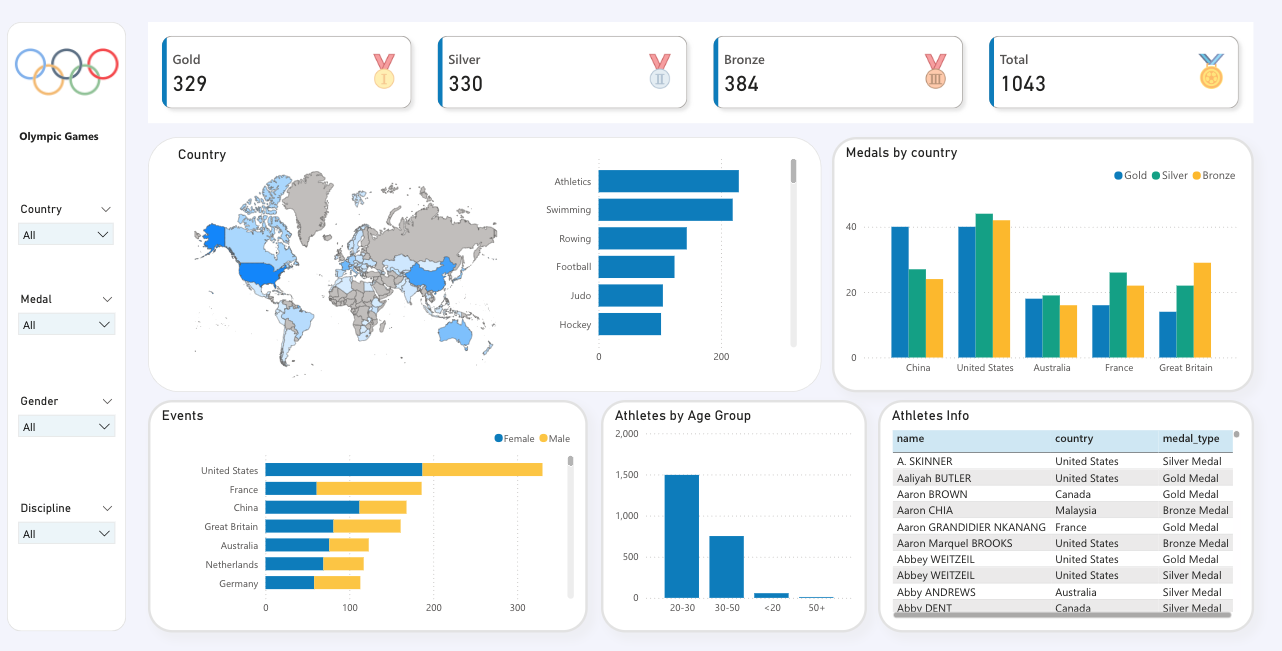

The page's visual inventory and layout, read from the dashboard file:
{"tool":"powerbi","page":{"name":"第 1 页","canvas":[1580,800],"ordinal":0},"visuals":[{"type":"shape","box":[187.2,170.4,825.6,312.6],"z":0},{"type":"cardVisual","fields":{"Data":["parisOlympicT.Total_Gold_Medals","parisOlympicT.SilverT","parisOlympicT.Bronze","parisOlympicT.Totalt"]},"box":[187.2,30,1355.4,123.6],"z":1000},{"type":"shapeMap","title":"Country","fields":{"Value":["parisOlympicT.Total"],"Category":["parisOlympicT.country"]},"box":[219,183.5,421.2,286.4],"z":2000},{"type":"barChart","fields":{"Category":["parisOlympicT.discipline"],"Y":["parisOlympicT.discipline"]},"box":[640.2,183.5,348.2,273.3],"z":3000},{"type":"clusteredColumnChart","title":"Medals by country","fields":{"Category":["parisOlympicT.country"],"Y":["parisOlympicT.Gold","parisOlympicT.Silver","parisOlympicT.Bronze"]},"box":[1025.9,170.4,516.7,312.6],"z":4000},{"type":"barChart","title":"Events","fields":{"Category":["parisOlympicT.country"],"Y":["parisOlympicT.discipline"],"Series":["parisOlympicT.gender"]},"box":[187.2,492.3,539.1,284.5],"z":5000},{"type":"columnChart","title":"Athletes by Age Group","fields":{"Category":["parisOlympicT.Age_Bucket_col"],"Y":["parisOlympicT.Age_Bucket_col"]},"box":[743.2,492.3,325.7,284.5],"z":6000},{"type":"tableEx","title":"Athletes Info","fields":{"Values":["parisOlympicT.name","parisOlympicT.country","parisOlympicT.medal_type"]},"box":[1082,492.3,460.5,284.5],"z":7000},{"type":"shape","box":[15,30,146,746.9],"z":8000},{"type":"image","box":[18.7,22.5,138.5,136.7],"z":9000},{"type":"textbox","box":[10.2,154.1,137.2,245.6],"z":10000},{"type":"slicer","fields":{"Values":["parisOlympicT.country"]},"box":[18.7,247.1,136.7,86.1],"z":11000},{"type":"slicer","fields":{"Values":["parisOlympicT.medal_type"]},"box":[18.7,357.6,138.5,86.1],"z":12000},{"type":"slicer","fields":{"Values":["parisOlympicT.gender"]},"box":[18.7,483,138.5,86.1],"z":13000},{"type":"slicer","fields":{"Values":["parisOlympicT.discipline"]},"box":[18.7,614,138.5,86.1],"z":14000}]}

Visuals, with their boxes in screenshot pixels (x1, y1, x2, y2), scaled from the page's 1580x800 canvas onto the 1282x651 screenshot:
shape: 152,139,822,393
cardVisual - parisOlympicT.Total_Gold_Medals x parisOlympicT.SilverT: 152,24,1252,125
"Country" shapeMap: 178,149,519,382
barChart - parisOlympicT.discipline x parisOlympicT.discipline: 519,149,802,372
"Medals by country" clusteredColumnChart: 832,139,1252,393
"Events" barChart: 152,401,589,632
"Athletes by Age Group" columnChart: 603,401,867,632
"Athletes Info" tableEx: 878,401,1252,632
shape: 12,24,131,632
image: 15,18,128,130
textbox: 8,125,120,325
slicer - parisOlympicT.country: 15,201,126,271
slicer - parisOlympicT.medal_type: 15,291,128,361
slicer - parisOlympicT.gender: 15,393,128,463
slicer - parisOlympicT.discipline: 15,500,128,570
